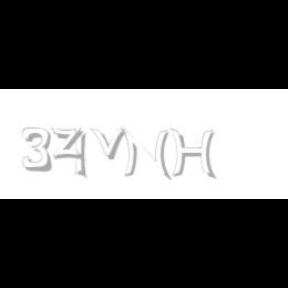3: (22, 128, 54, 172)
H: (170, 128, 216, 180)
I: (74, 128, 88, 180)
N: (120, 128, 170, 180)
v: (90, 128, 130, 160)
z: (51, 128, 87, 160)
